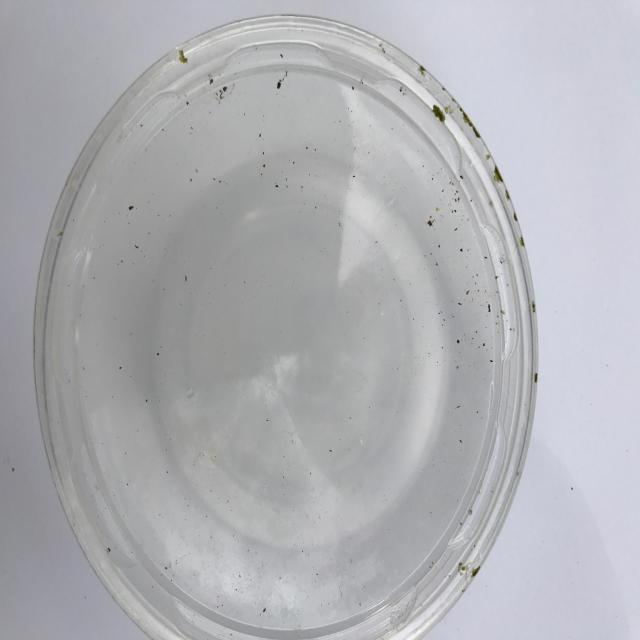plastic: (30, 12, 541, 640)
